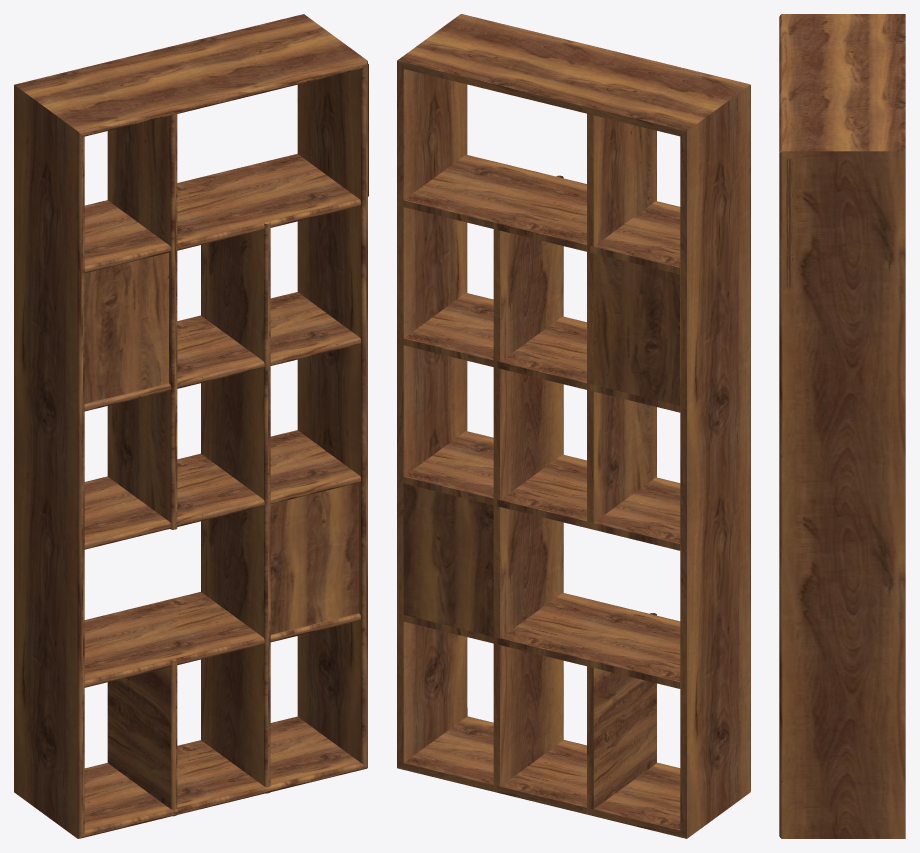
File: Librero Teruel.fbx
The picture shows the model from 3 angles, left to right: view 1: azimuth 30°, elevation 25°; view 2: azimuth 150°, elevation 25°; view 3: azimuth 270°, elevation 25°; orthographic projection. The views are drawn at different scales.
Visible parts, largest first — view 1: Predeterminado; view 2: Predeterminado; view 3: Predeterminado.
Part boxes in pixels (<box>): Predeterminado: <box>14,14,368,838</box>; Predeterminado: <box>397,14,750,838</box>; Predeterminado: <box>779,14,905,838</box>.
Size of the model in its own units: 0.9104 by 0.35 by 2.1.
1 material, 1 textured.
